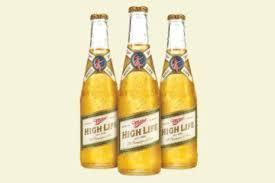Glass bottle: (68, 1, 216, 179)
